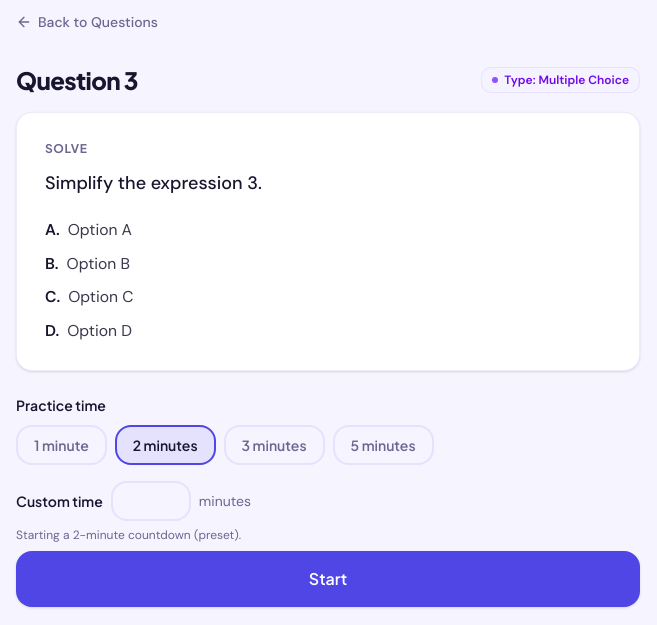
it: Try Question practice screen › uses a sensible default duration and lets the user change it before starting
Click the button "3 minutes": point(274, 445) [224, 425, 325, 465]
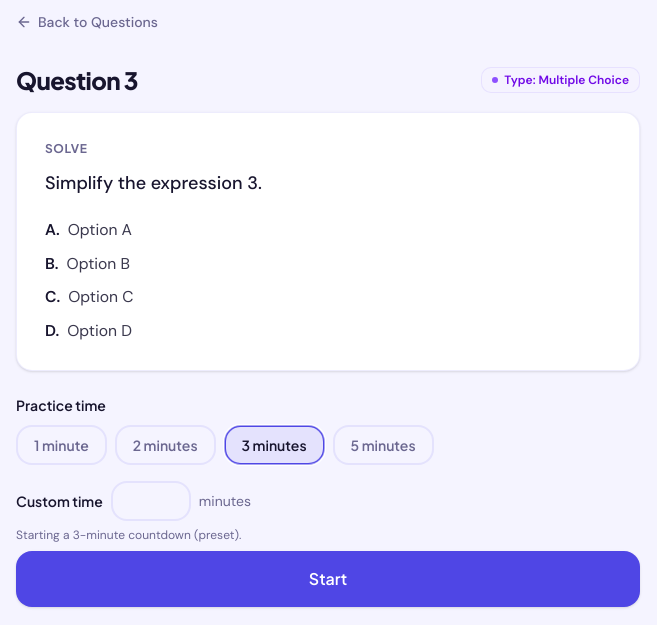
Click the button "Start": point(328, 579) [16, 551, 640, 607]
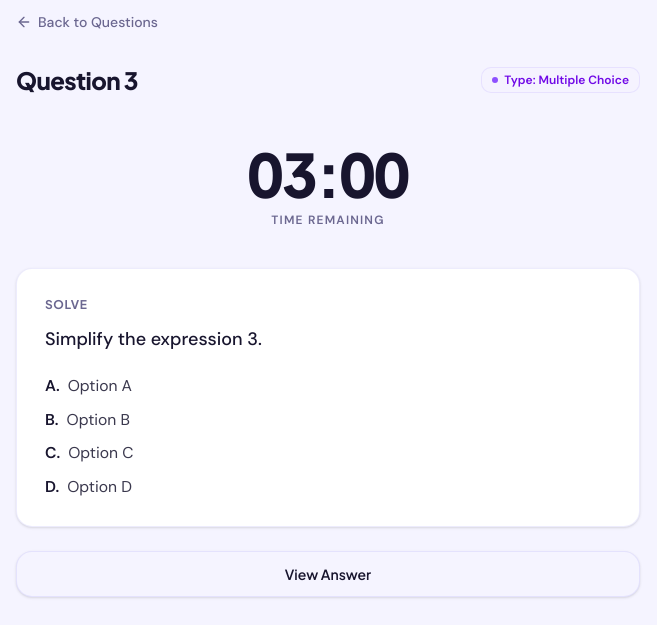
Result: the text "03:00" is shown at [248, 144, 408, 204]
